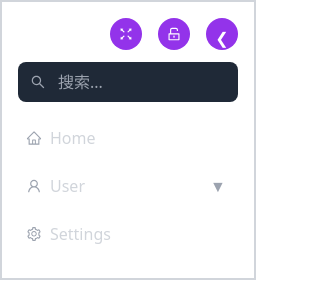
Test: Sidebar Component › searches items
In the field with placeholder "搜索...": [128, 82] box x1=18 y1=62 x2=238 y2=102, type "User"
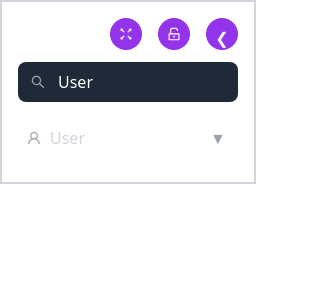
Result: the text "User" is shown at x1=50 y1=126 x2=85 y2=150
